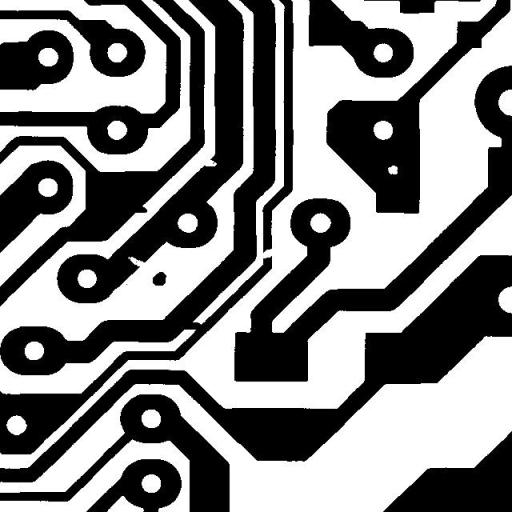copper: (144, 264, 174, 293)
mousebite: (120, 248, 151, 274), (195, 152, 224, 174)
open: (252, 241, 281, 266)
pin-hole: (380, 158, 405, 182)
short: (175, 313, 210, 337)
spur: (126, 198, 154, 220)
